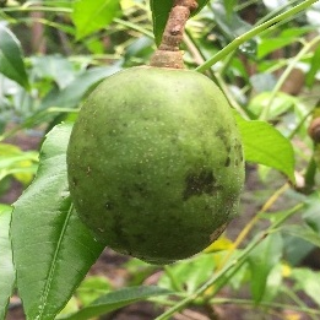coc: (67, 65, 245, 268)
